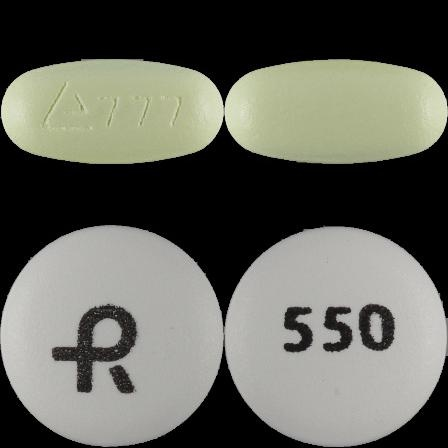43063-565: (0, 0, 224, 224)
